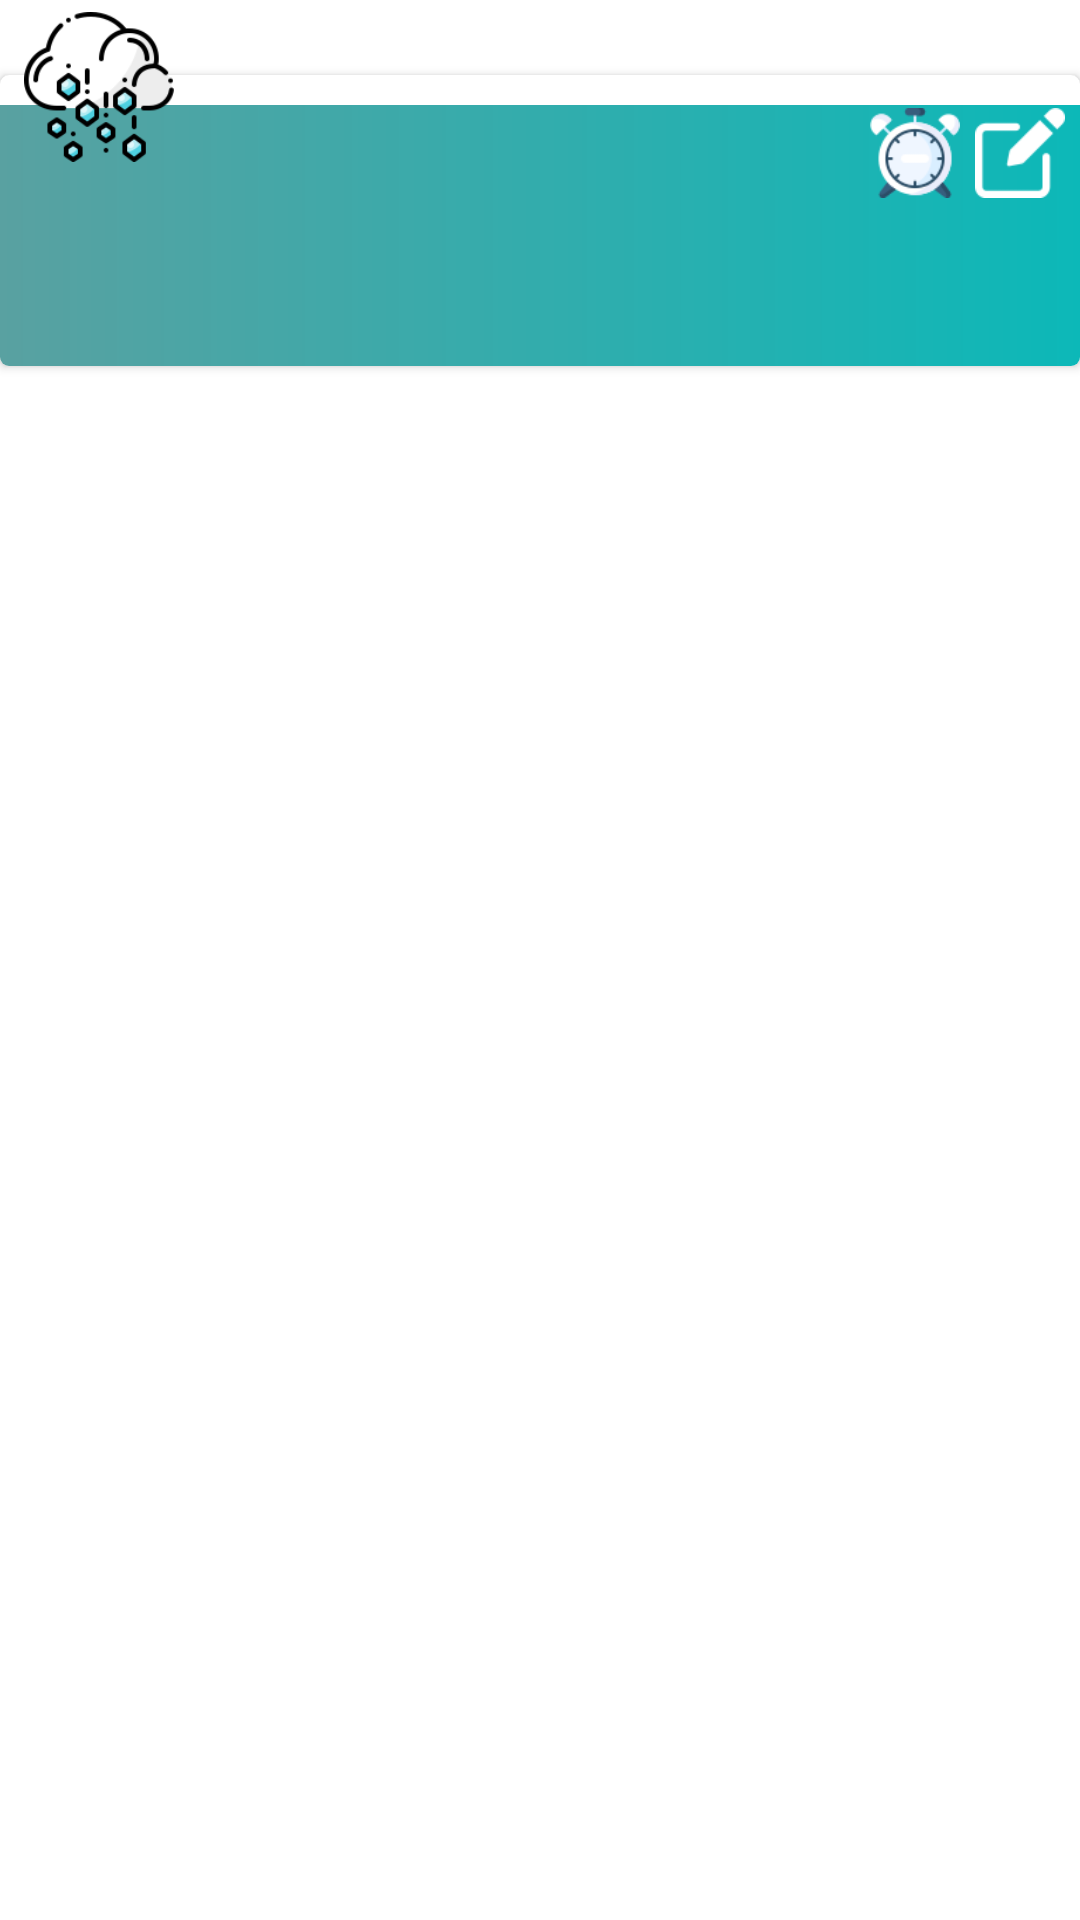

Screen size 1080 x 1920. Icon name, then its center in pixels as [x,y]:
edit: [1020,153]
hailstorm: [99,87]
